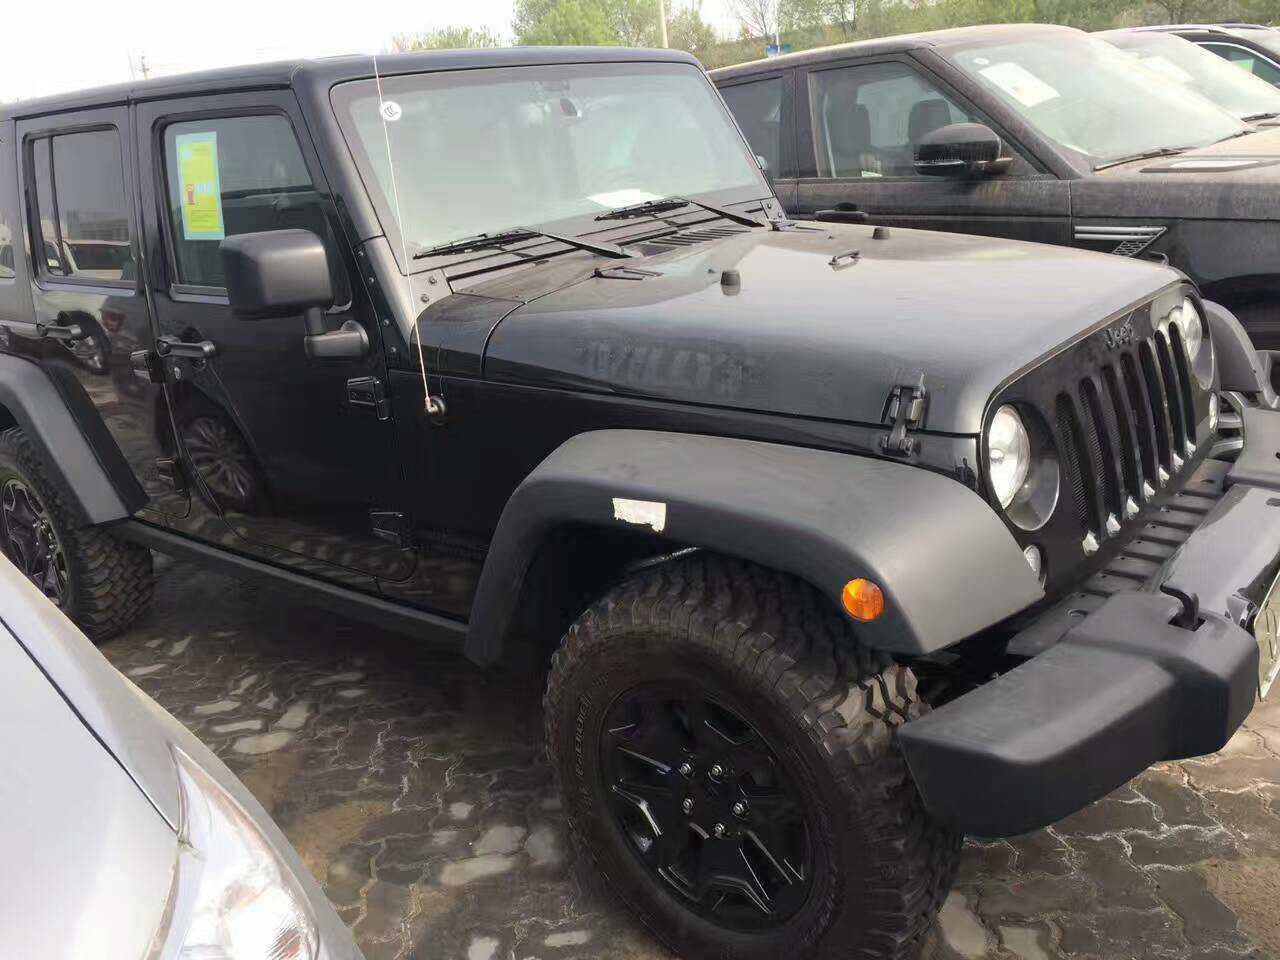jeep: (33, 68, 1253, 945)
